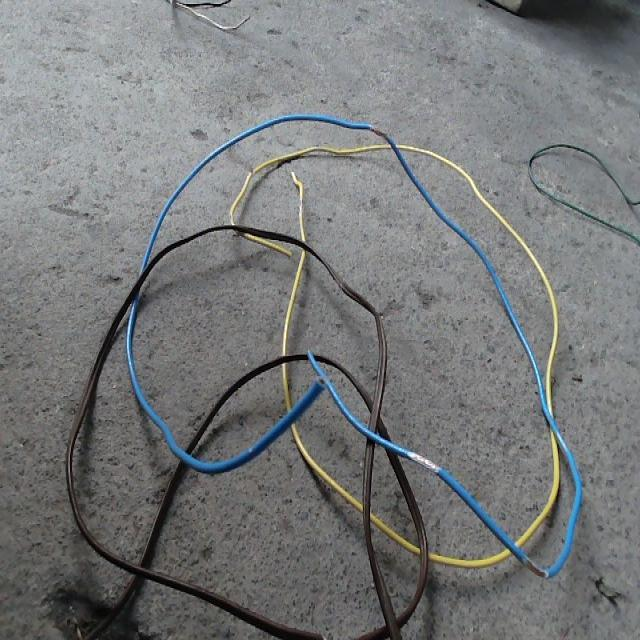-: (406, 449, 439, 471), (523, 556, 548, 577), (369, 124, 387, 137)
